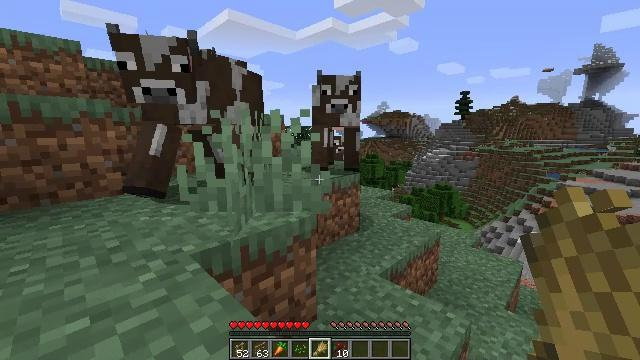cow: (106, 24, 264, 198), (312, 70, 362, 170)
